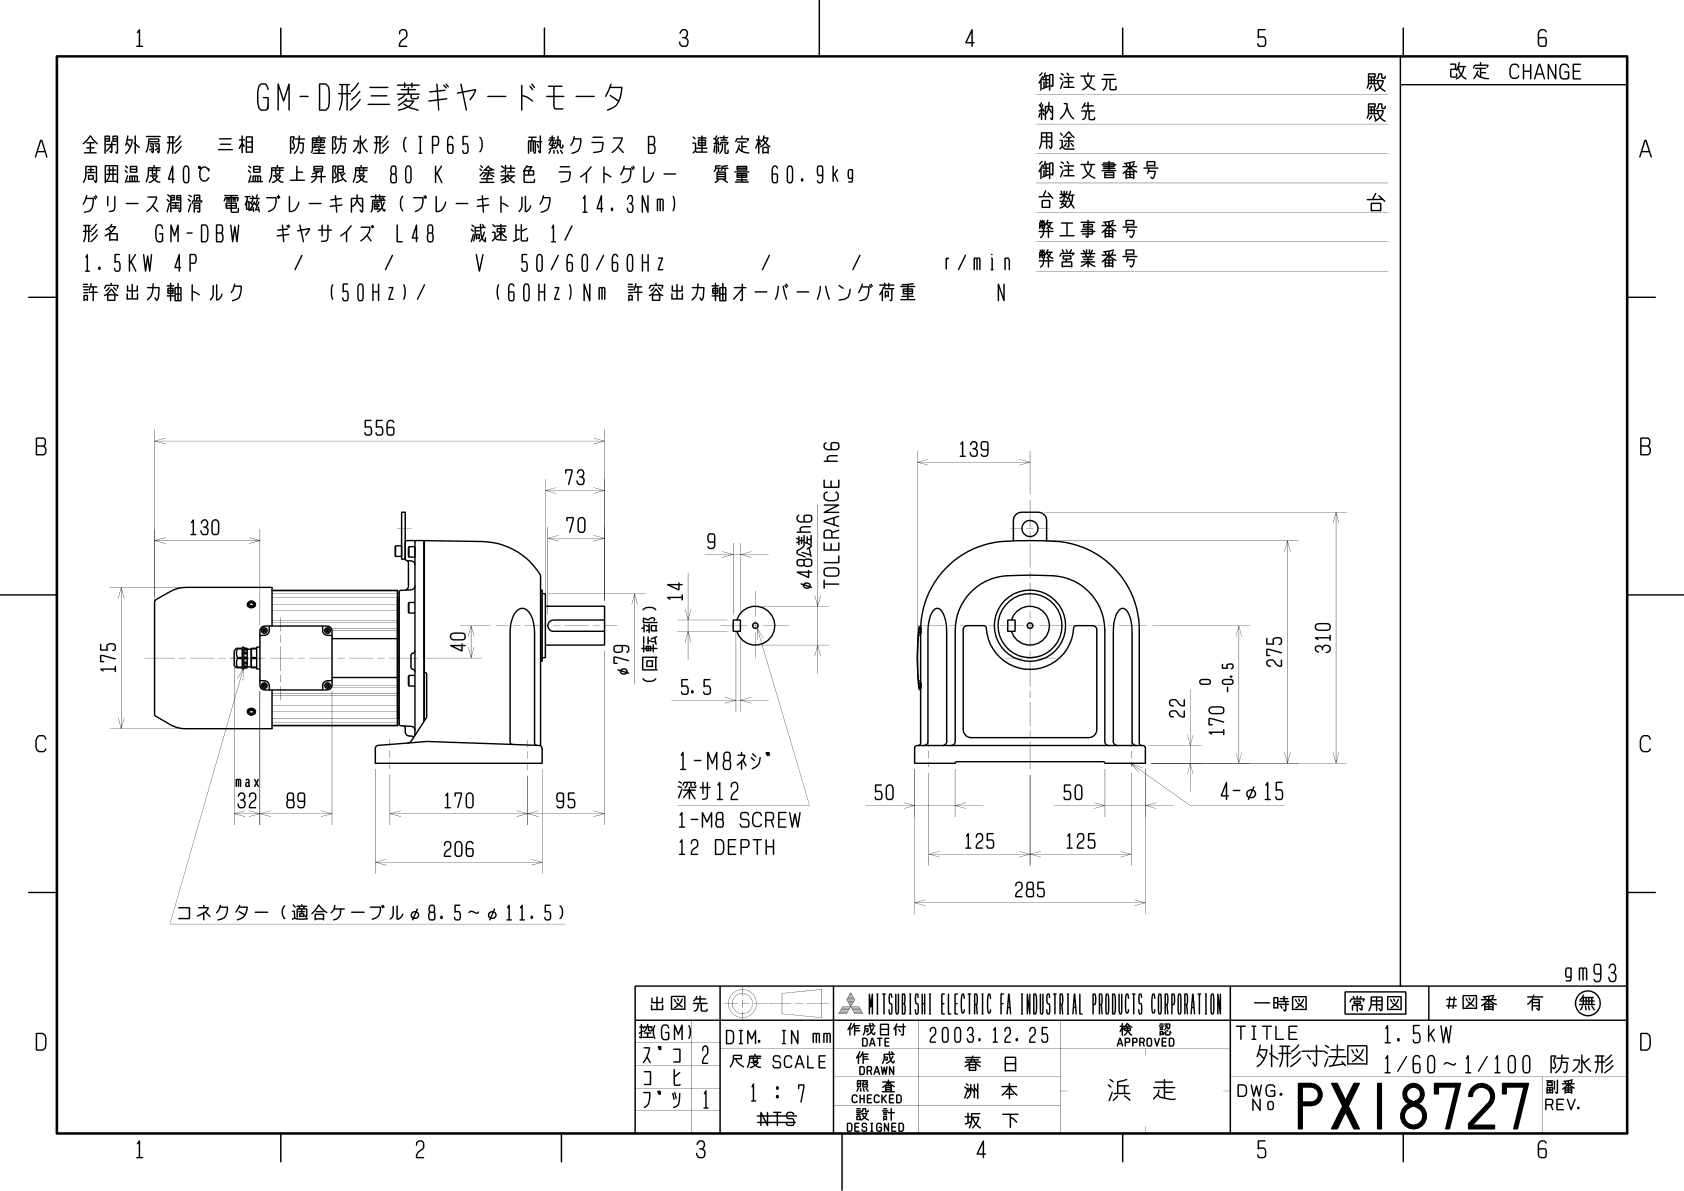GM_D_IP65_三相_脚: (1, 1, 1678, 1176)
